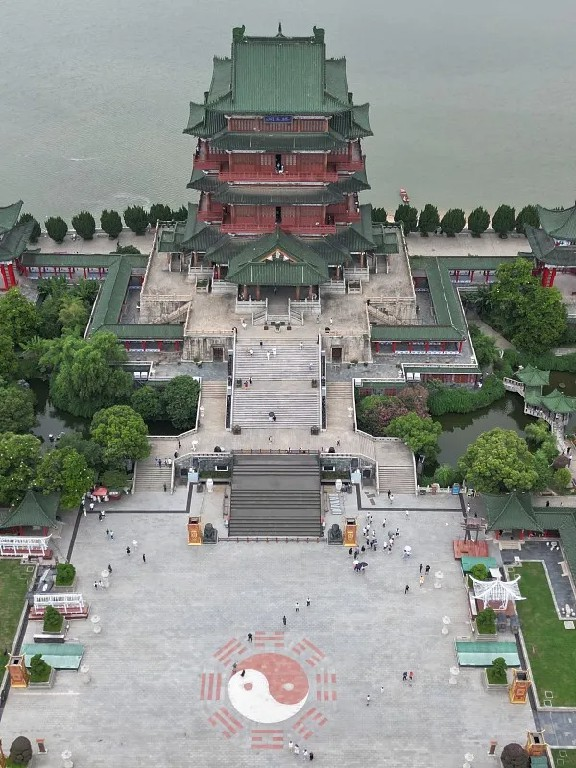Teng: (157, 21, 397, 296)
